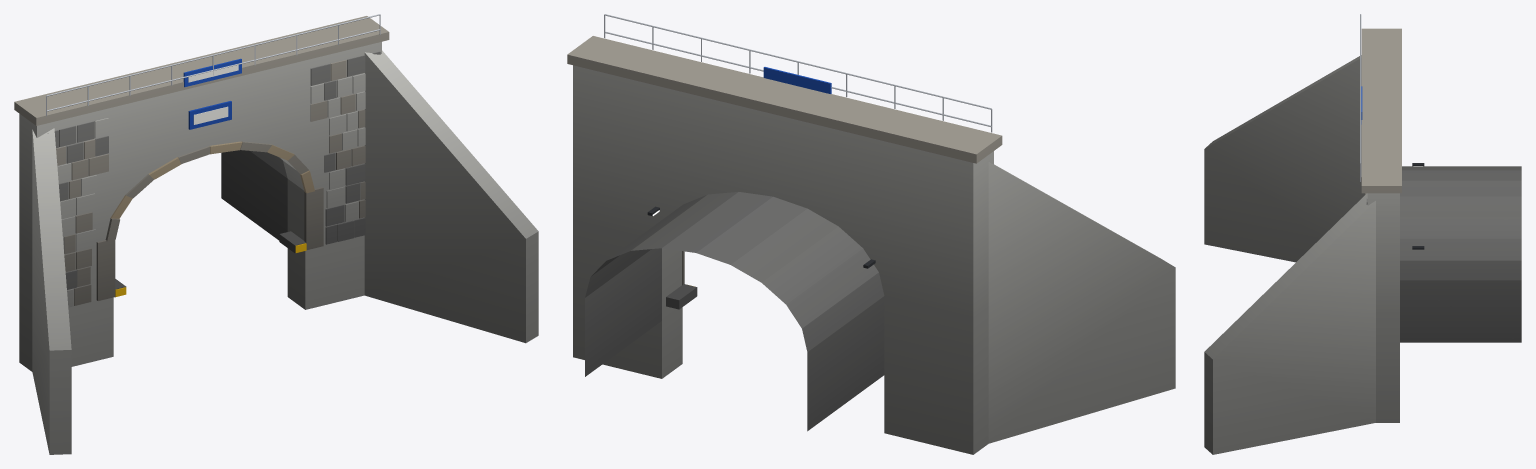
The model's file is Tunnel_Portal.fbx.
3 views of the same model, side by side, from view 1: azimuth 30°, elevation 25°; view 2: azimuth 150°, elevation 25°; view 3: azimuth 270°, elevation 25° (orthographic). The views are drawn at different scales.
Parts seen in each view (by area): view 1: Tunnel_Portal_LOD0; view 2: Tunnel_Portal_LOD0; view 3: Tunnel_Portal_LOD0.
Boxes of the visible parts, <box> form: Tunnel_Portal_LOD0: <box>14,14,538,454</box>; Tunnel_Portal_LOD0: <box>567,14,1175,454</box>; Tunnel_Portal_LOD0: <box>1204,14,1521,454</box>.
Size of what is drawn, in the model's own units: 25.51 by 14.03 by 15.67.
Materials: 1 (1 with a texture image).
